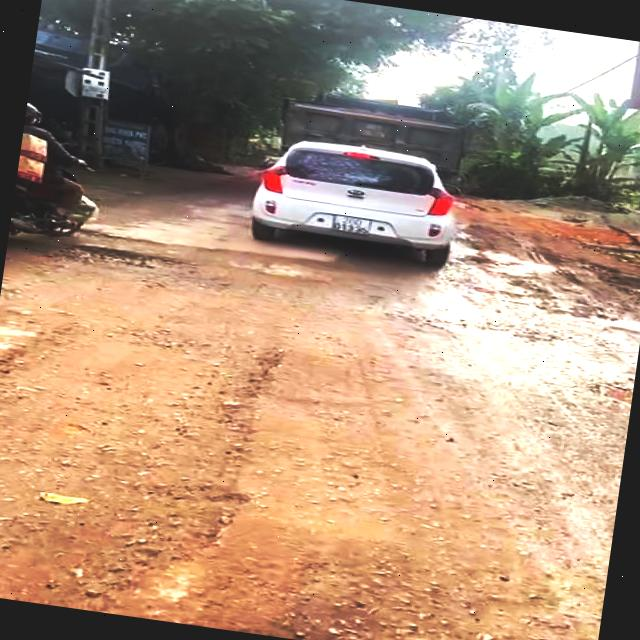pothole: (0, 302, 278, 631), (40, 237, 201, 286), (425, 311, 547, 348)
